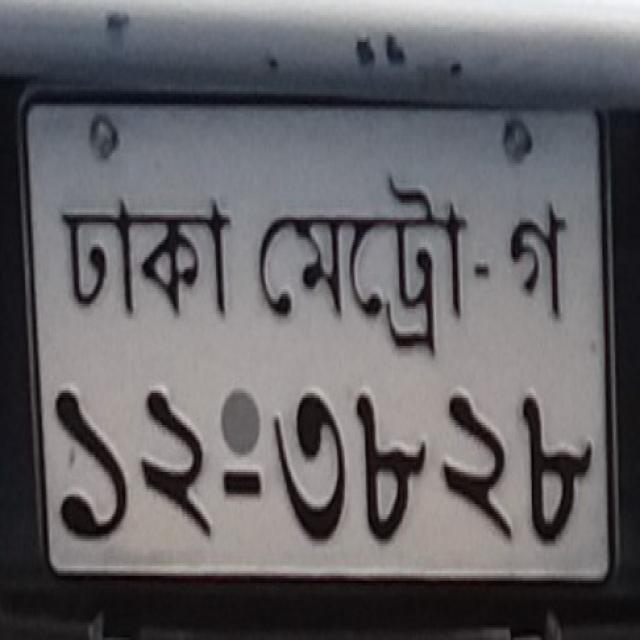numberplate: (15, 83, 622, 589)
